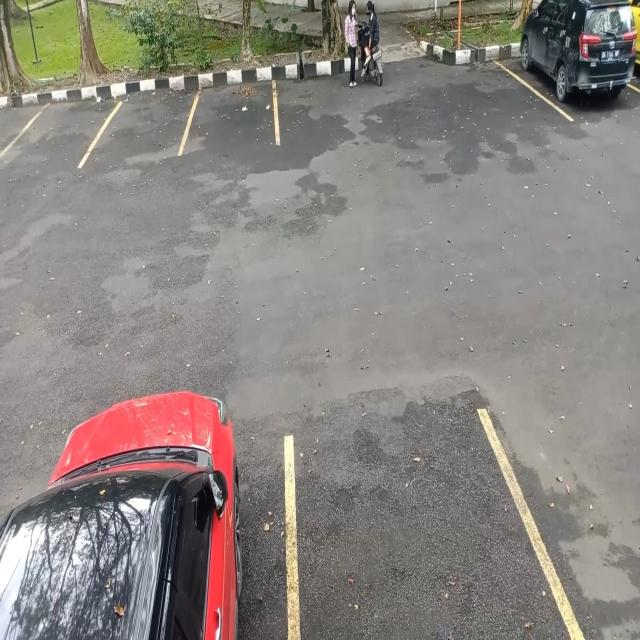empty: (287, 409, 538, 640), (190, 60, 280, 163), (99, 67, 189, 166), (9, 89, 98, 168)
occupied: (519, 10, 639, 116)
